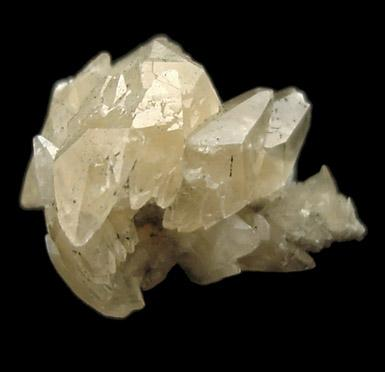calcite: (21, 36, 366, 318)
